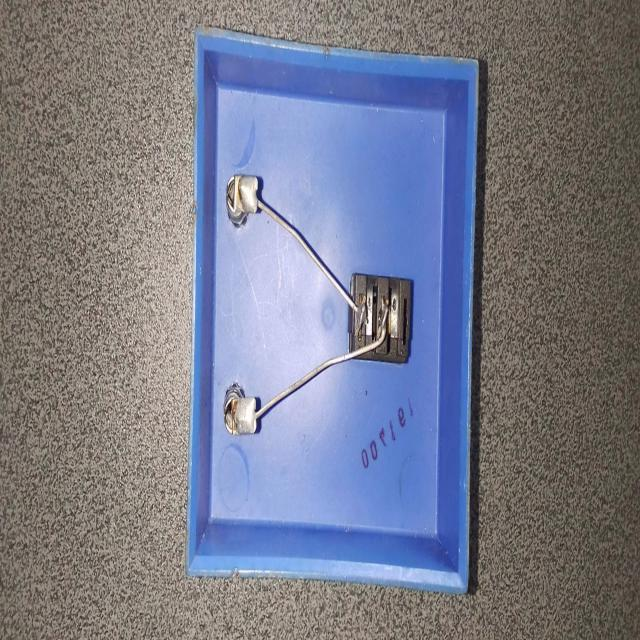ON-OFF Switch: (171, 23, 499, 586)
